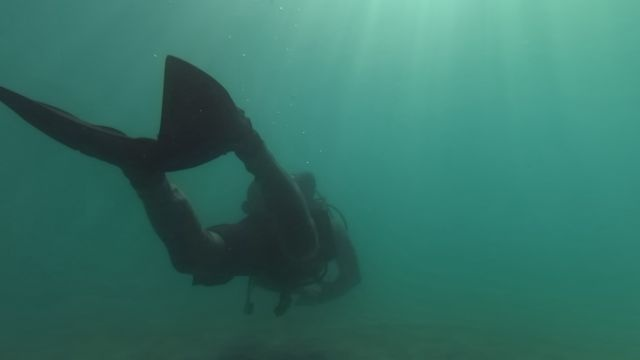Diver: (0, 50, 374, 320)
Hand: (290, 283, 331, 308)
